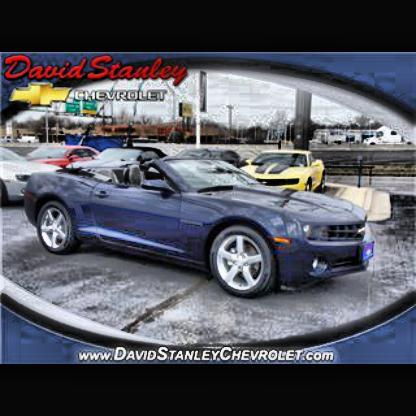Chevrolet Camaro Convertible 2012: (19, 152, 380, 306)
